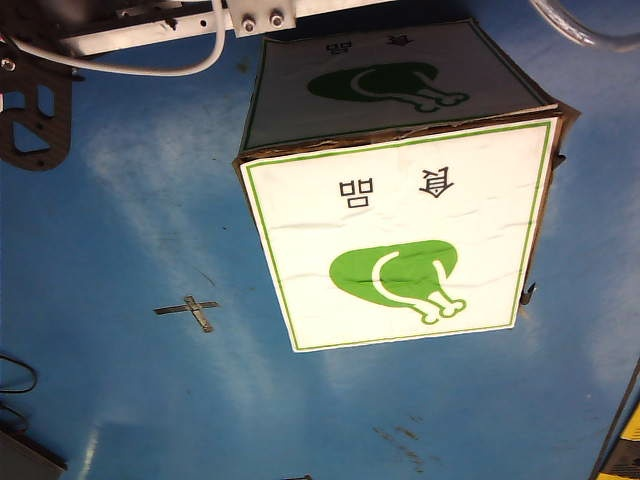Cube_food: (297, 159, 516, 349)
